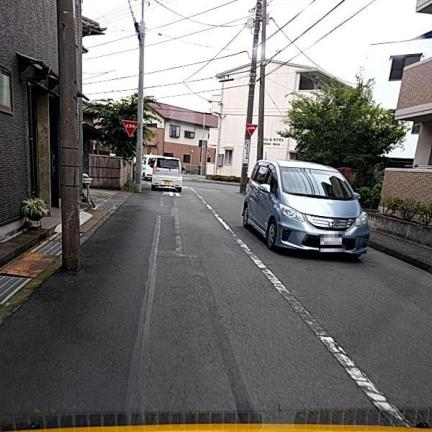Road: (0, 182, 431, 418)
